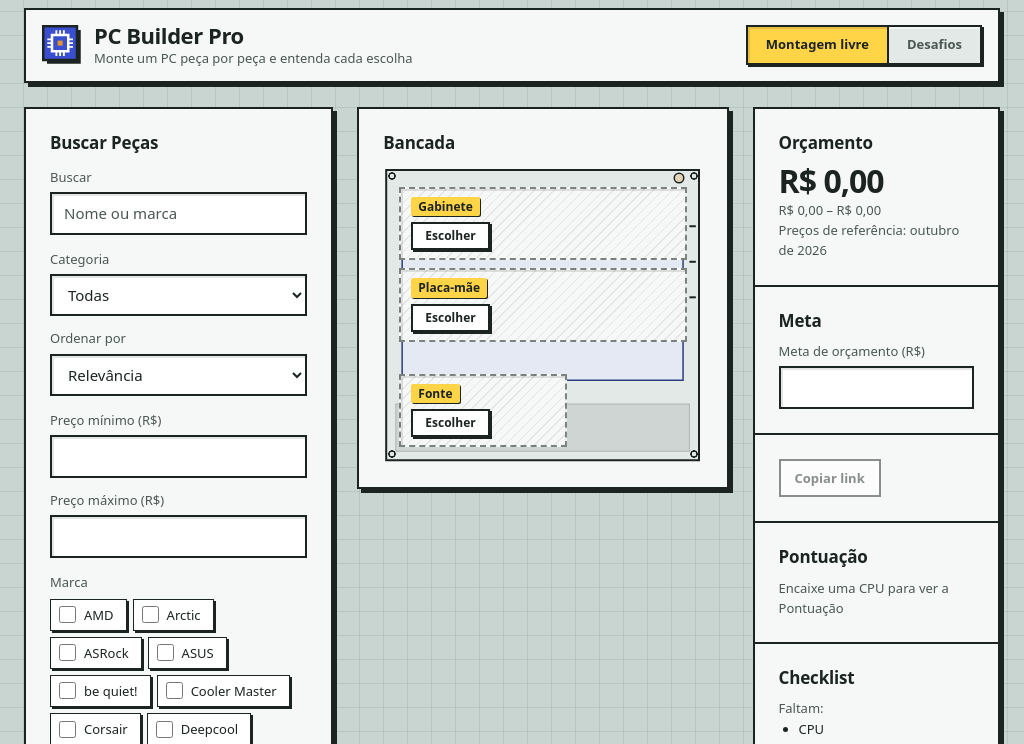
Test: Montagem: busca assíncrona › falha depois de uma busca que deu certo mostra o erro, não a lista antiga
Type "ryzen" into the search field labelled "Buscar" at [179, 214], box [50, 192, 307, 235]
(page scrolled)
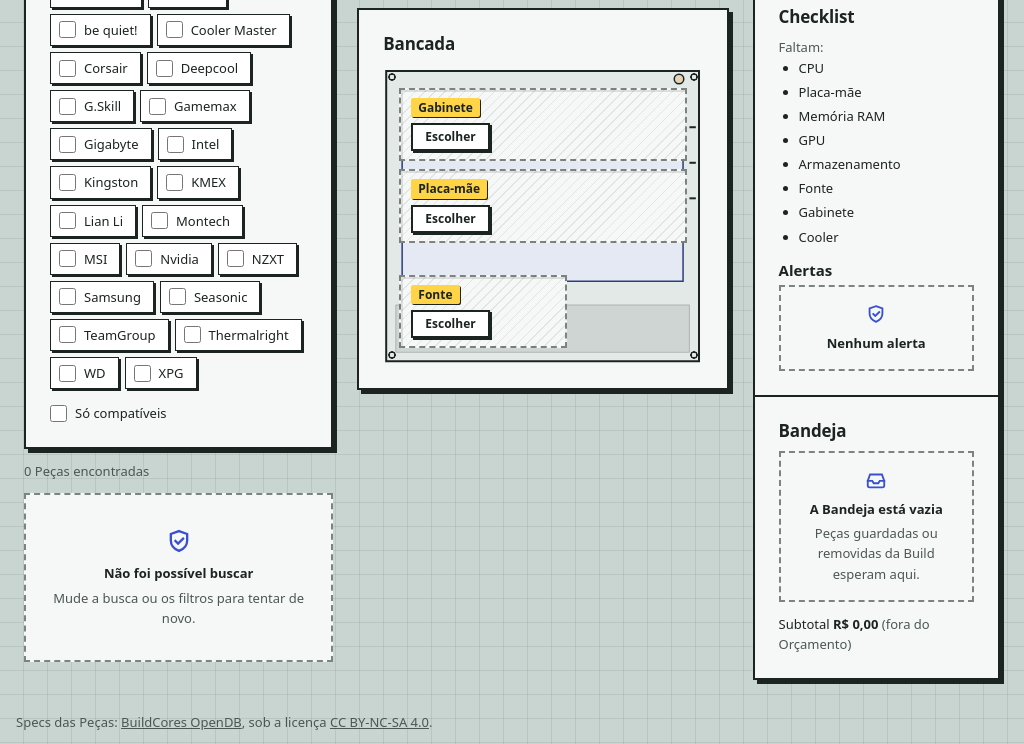
expect the text with test id "contagem-busca" does not show "Buscando": met, box [24, 462, 149, 480]
expect the text "Não foi possível buscar" is shown: met, box [104, 564, 253, 584]
expect no headings "Ryzen" are shown: met
